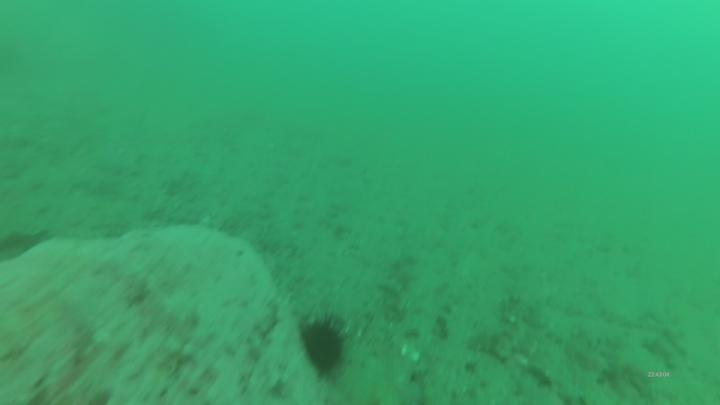echinus: (294, 311, 347, 378)
holothurian: (508, 316, 628, 405), (506, 291, 616, 376)
